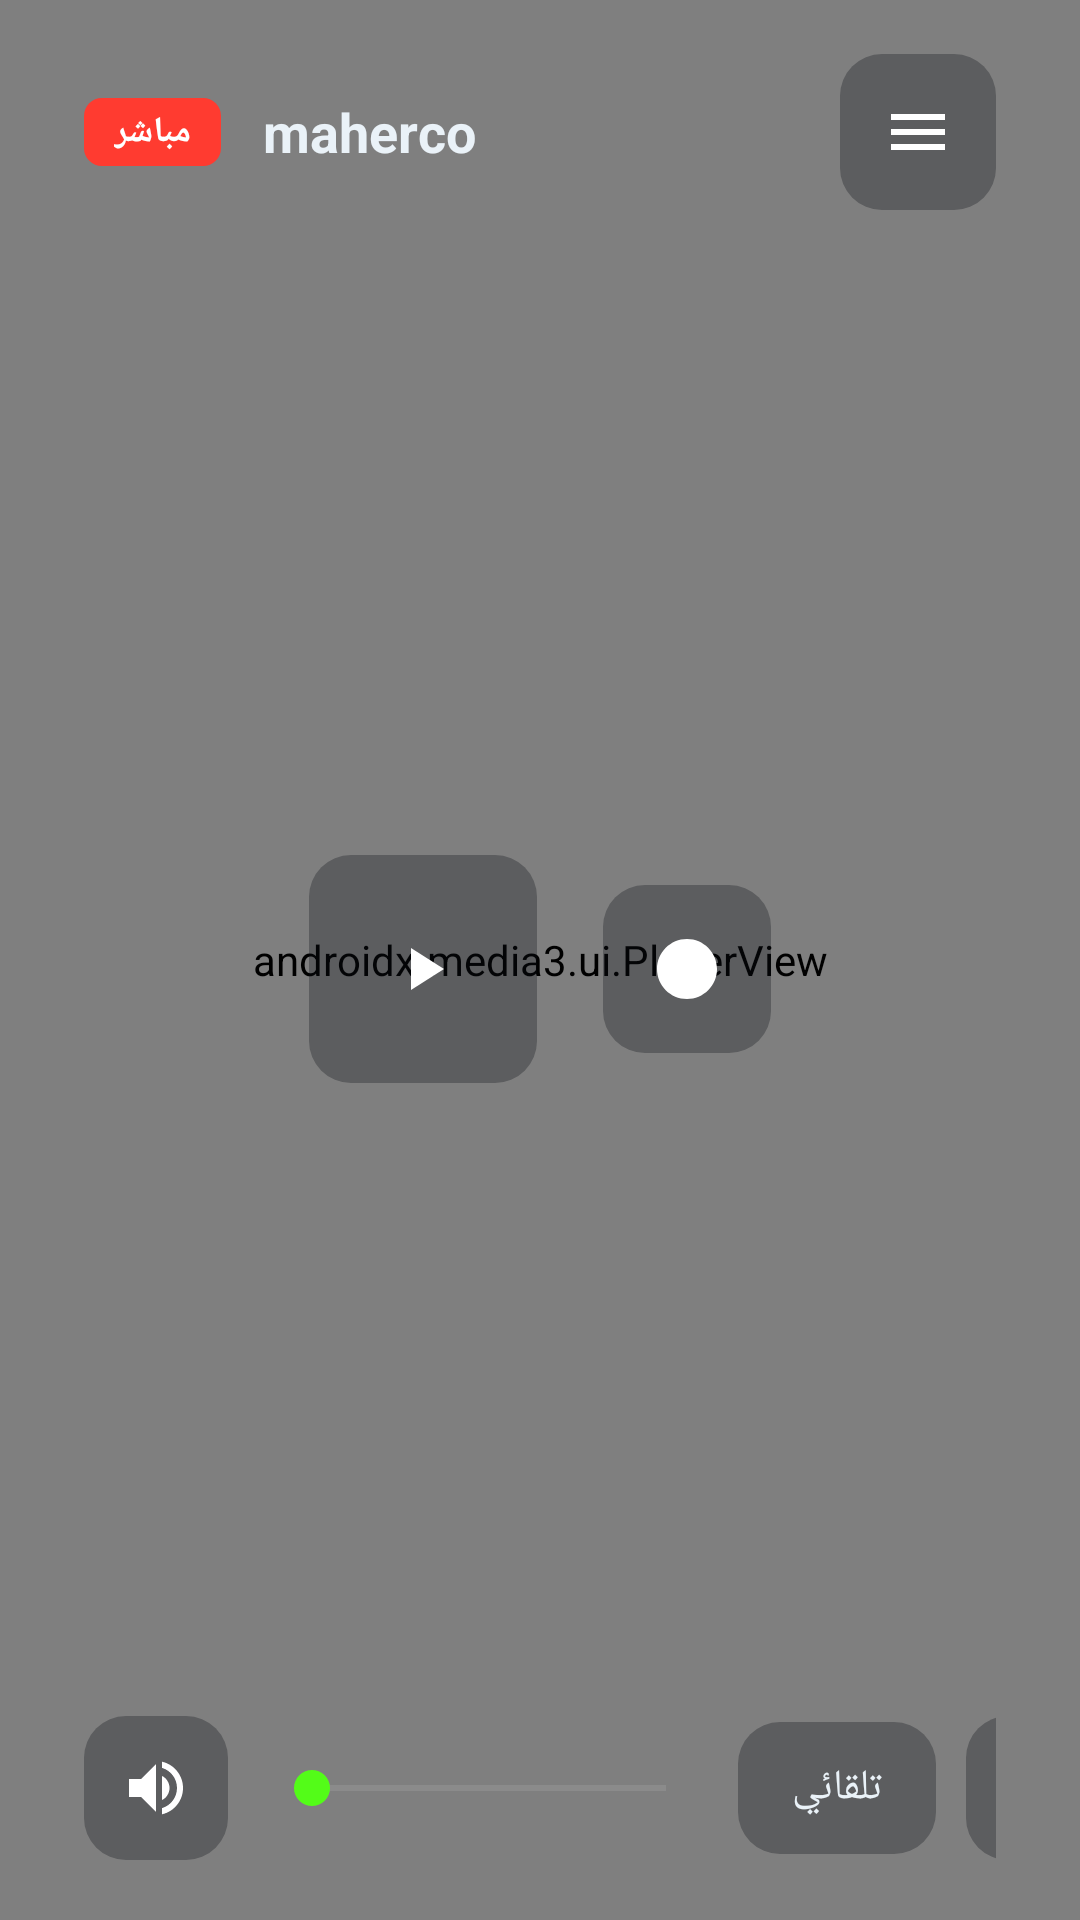

Point at icon controls on the screen. Image size 1080w x 1920h, points as (x=x, y=y).
كتم الصوت: (x=156, y=1788)
